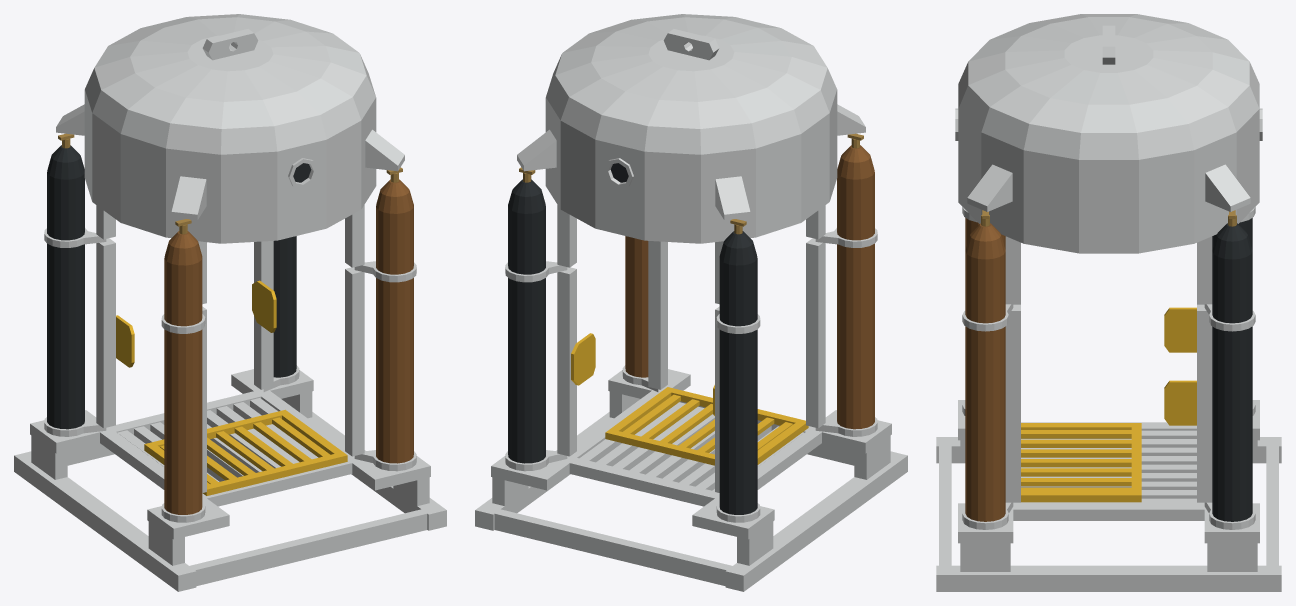
3 views of the same model, side by side, from view 1: azimuth 30°, elevation 25°; view 2: azimuth 150°, elevation 25°; view 3: azimuth 270°, elevation 25° (orthographic). The views are drawn at different scales.
Visible parts, largest first — view 1: Open_bottom_dome_with_two_apertures, LF_gas_cylinder, RF_gas_cylinder, LB_gas_cylinder, L_ground_skid, Front_lower_crossbar, LB_lower_upright, RF_lower_upright, RB_gas_cylinder, RB_lower_upright, R_deck_side, L_deck_side (+33 smaller); view 2: Open_bottom_dome_with_two_apertures, LB_gas_cylinder, RB_gas_cylinder, LF_gas_cylinder, L_ground_skid, Rear_lower_crossbar, LF_lower_upright, RB_lower_upright, RF_gas_cylinder, RF_lower_upright, Rear_deck_cross, R_deck_side (+32 smaller); view 3: Open_bottom_dome_with_two_apertures, RF_gas_cylinder, RB_gas_cylinder, R_ground_skid, R_deck_side, RF_lower_upright, RB_lower_upright, Front_lower_crossbar, Rear_lower_crossbar, RF_skid_riser, RB_skid_riser, RF_dome_mounted_overhead_guard (+32 smaller).
Boxes of the visible parts, <box> form: Open_bottom_dome_with_two_apertures: <box>84,14,376,243</box>; LF_gas_cylinder: <box>164,231,202,514</box>; RF_gas_cylinder: <box>376,179,413,463</box>; LB_gas_cylinder: <box>47,145,84,429</box>; L_ground_skid: <box>14,451,196,591</box>; Front_lower_crossbar: <box>189,509,427,586</box>; LB_lower_upright: <box>96,238,115,428</box>; RF_lower_upright: <box>345,267,364,456</box>; RB_gas_cylinder: <box>273,236,296,377</box>; RB_lower_upright: <box>254,241,273,389</box>; R_deck_side: <box>231,371,387,490</box>; L_deck_side: <box>85,410,229,528</box>; Open_bottom_dome_with_two_apertures: <box>545,14,837,243</box>; LB_gas_cylinder: <box>719,231,757,514</box>; RB_gas_cylinder: <box>508,179,545,463</box>; LF_gas_cylinder: <box>837,145,874,429</box>; L_ground_skid: <box>725,451,907,591</box>; Rear_lower_crossbar: <box>494,509,732,586</box>; LF_lower_upright: <box>806,238,825,428</box>; RB_lower_upright: <box>557,267,576,456</box>; RF_gas_cylinder: <box>625,236,648,377</box>; RF_lower_upright: <box>648,241,667,389</box>; Rear_deck_cross: <box>569,458,719,506</box>; R_deck_side: <box>534,371,690,490</box>; Open_bottom_dome_with_two_apertures: <box>958,14,1259,253</box>; RF_gas_cylinder: <box>965,223,1005,521</box>; RB_gas_cylinder: <box>1212,223,1252,521</box>; R_ground_skid: <box>936,565,1281,591</box>; R_deck_side: <box>958,503,1259,520</box>; RF_lower_upright: <box>1005,304,1020,502</box>; RB_lower_upright: <box>1197,304,1212,502</box>; Front_lower_crossbar: <box>939,446,951,565</box>; Rear_lower_crossbar: <box>1266,446,1278,565</box>; RF_skid_riser: <box>960,543,1010,571</box>; RB_skid_riser: <box>1207,543,1257,571</box>; RF_dome_mounted_overhead_guard: <box>967,164,1012,211</box>.
Bounding box in the file's own units: 1.3 × 2.13 × 1.37.
